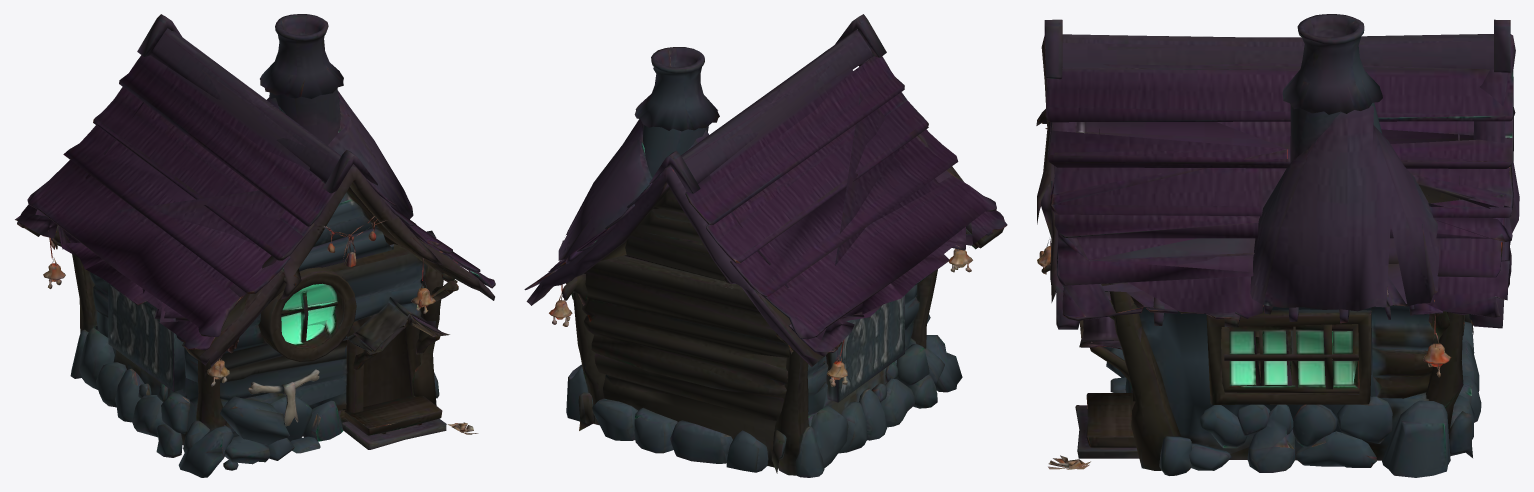
Rendered from house-witch.glb.
3 renders of one model, left to right at view 1: azimuth 30°, elevation 25°; view 2: azimuth 150°, elevation 25°; view 3: azimuth 270°, elevation 25°, orthographic. The views are drawn at different scales.
Size of the model in its own units: 0.8784 by 0.8945 by 0.9512.
Materials: 1 (1 with a texture image).
